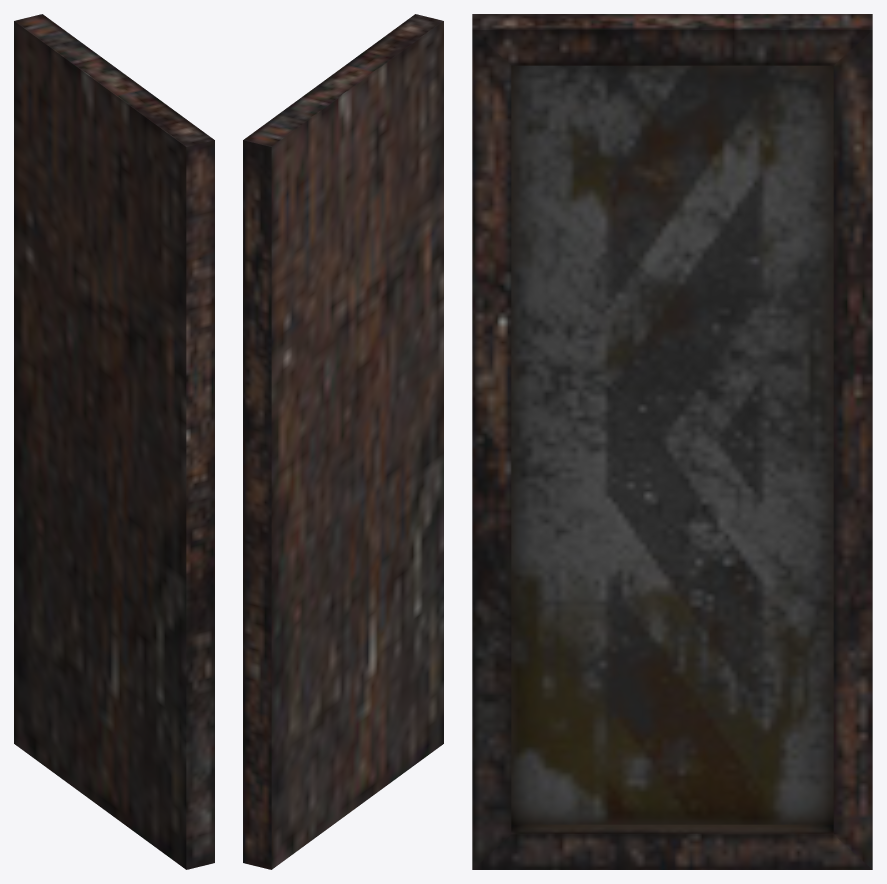
File: Frame_10.FBX
The picture shows the model from 3 angles, left to right: view 1: azimuth 30°, elevation 25°; view 2: azimuth 150°, elevation 25°; view 3: azimuth 270°, elevation 25°; orthographic projection. The views are drawn at different scales.
Parts seen in each view (by area): view 1: Frame_10; view 2: Frame_10; view 3: Frame_10.
Boxes of the visible parts, x1,y1,x2,y2 form: Frame_10: (14, 14, 214, 869); Frame_10: (243, 14, 443, 869); Frame_10: (472, 14, 872, 869).
Bounding box in the file's own units: 4.56 × 110 × 47.77.
